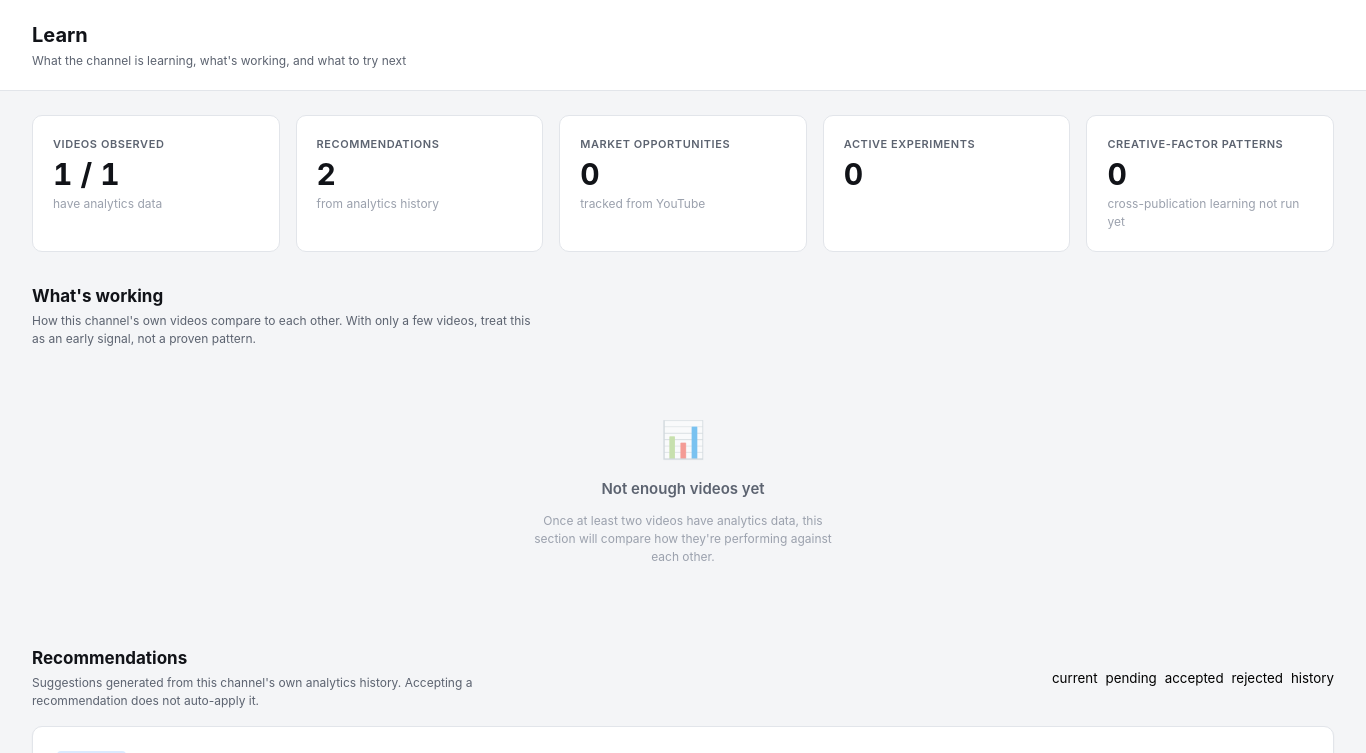
Learning › populated state — recommendations › filters recommendations by status
The width and height of the screenshot is (1366, 753).
Step 1. Click the button with test id "filter-accepted" → [1194, 678], box [1165,670,1224,686]
(page scrolled)
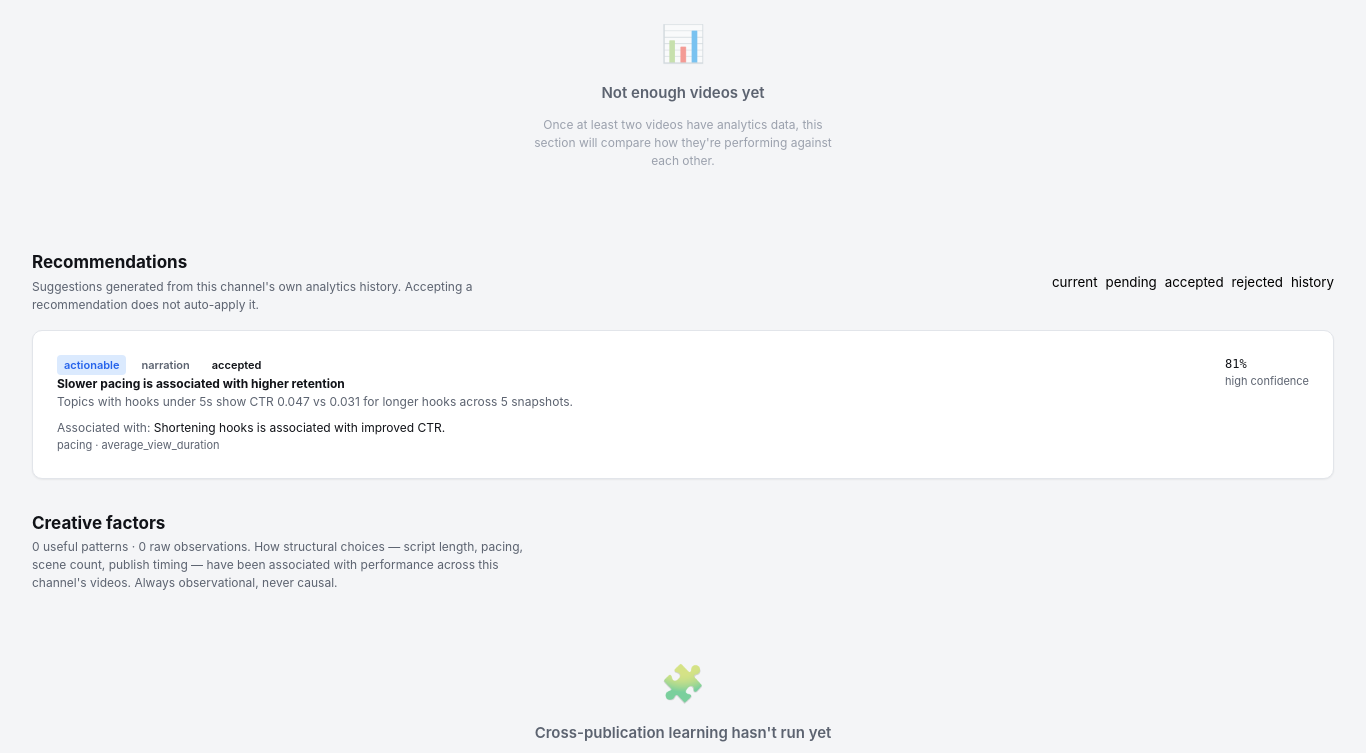
Expected: the heading "Slower pacing is associated with higher retention" is shown, [57,376,345,391]
Expected: the text "Shorter hooks are associated with higher CTR" is gone
